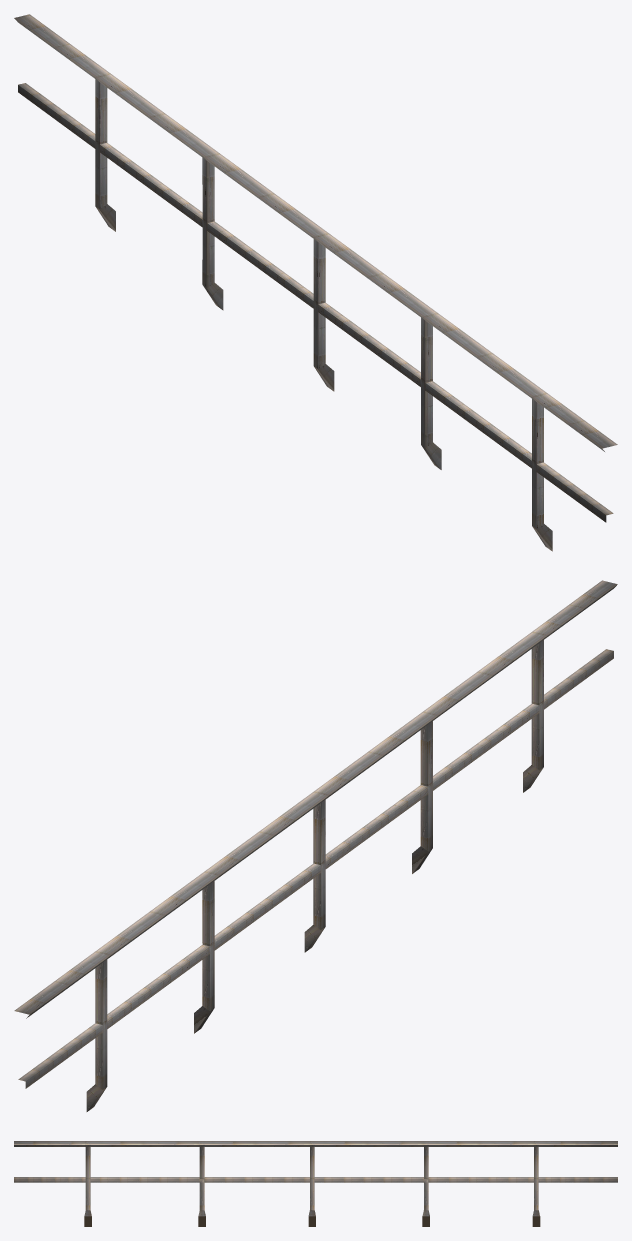
The model's file is M11Z2_SCUDHouse02_D.glb.
3 views of the same model, one above another, from view 1: azimuth 30°, elevation 25°; view 2: azimuth 150°, elevation 25°; view 3: azimuth 270°, elevation 25° (orthographic). The views are drawn at different scales.
Parts seen in each view (by area): view 1: M11Z2_SCUDHOUSE02_D; view 2: M11Z2_SCUDHOUSE02_D; view 3: M11Z2_SCUDHOUSE02_D.
Boxes of the visible parts, x1,y1,x2,y2 form: M11Z2_SCUDHOUSE02_D: (14, 14, 617, 551); M11Z2_SCUDHOUSE02_D: (14, 580, 617, 1111); M11Z2_SCUDHOUSE02_D: (14, 1141, 617, 1226).
Size of the model in its own units: 0.149 by 1.18 by 8.
Materials: 2 (2 with a texture image).
